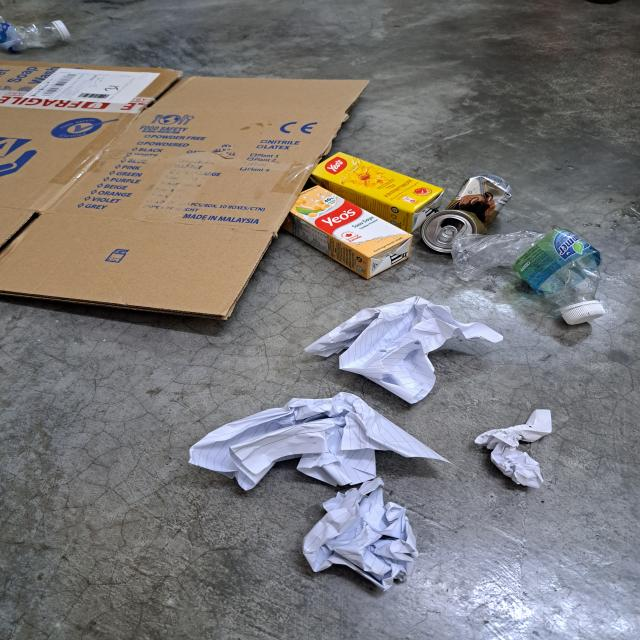can: (425, 168, 512, 257)
cardboard: (0, 62, 372, 322)
drink carton: (287, 183, 409, 278), (318, 152, 443, 228)
paper: (189, 390, 451, 492), (302, 297, 505, 403), (305, 477, 417, 594), (473, 405, 558, 491)
plastic bottle: (453, 223, 606, 327), (0, 16, 73, 57)
plastic bottle cap: (558, 298, 611, 324), (48, 17, 72, 46)
pop tab: (434, 224, 463, 252)
